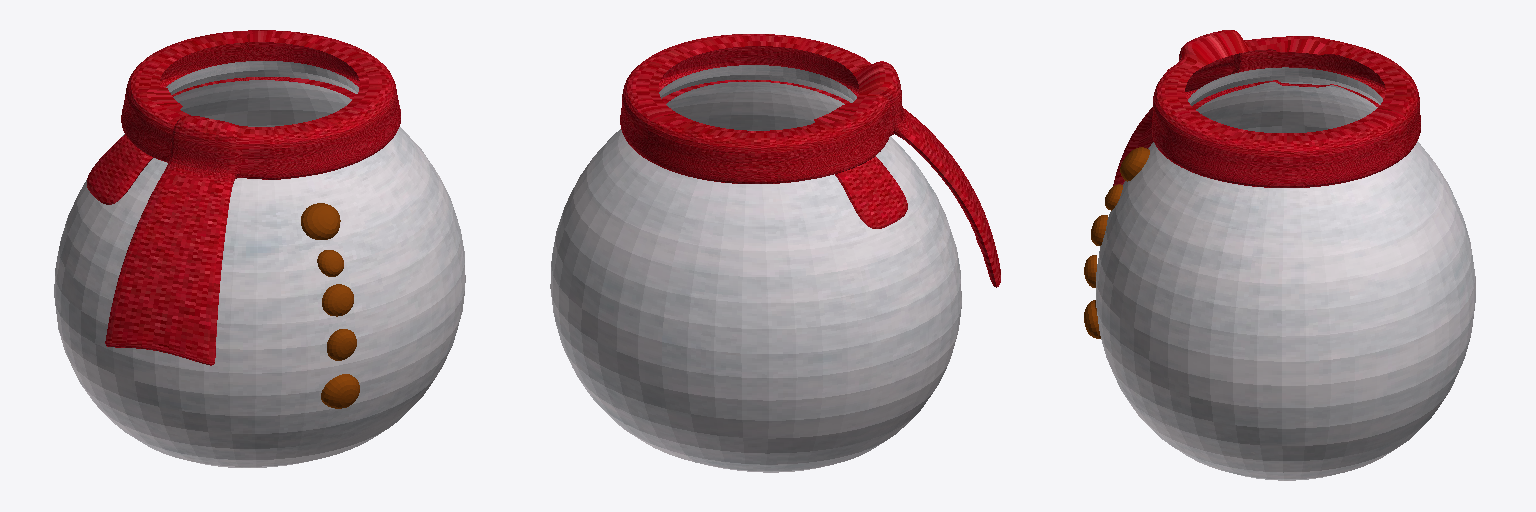
3 renders of one model, left to right at view 1: azimuth 30°, elevation 25°; view 2: azimuth 150°, elevation 25°; view 3: azimuth 270°, elevation 25°, orthographic.
Parts seen in each view (by area): view 1: polySurface9; view 2: polySurface9; view 3: polySurface9.
Boxes of the visible parts, x1,y1,x2,y2 form: polySurface9: [54, 30, 465, 467]; polySurface9: [550, 34, 1000, 472]; polySurface9: [1084, 30, 1475, 480].
Size of the model in its own units: 1.49 by 1.35 by 1.33.
Materials: 3 (3 with a texture image).